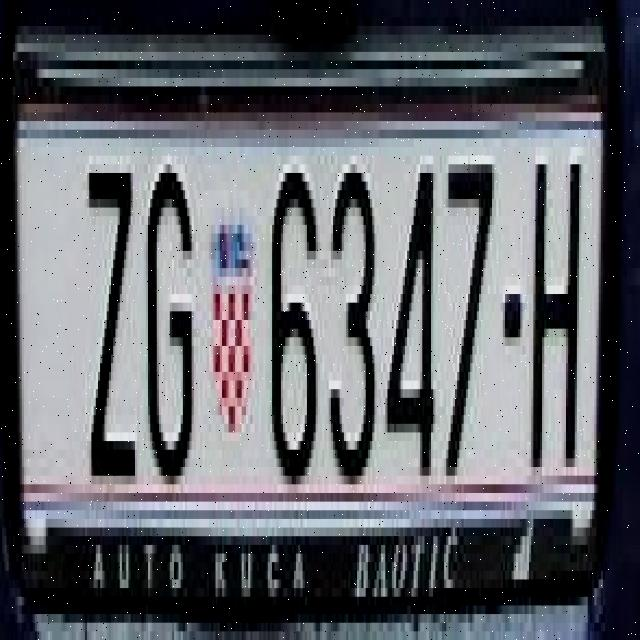3: (326, 151, 376, 480)
4: (384, 147, 436, 476)
6: (268, 156, 318, 476)
7: (441, 143, 493, 480)
G: (145, 156, 195, 476)
H: (527, 134, 581, 471)
Z: (85, 156, 137, 476)
